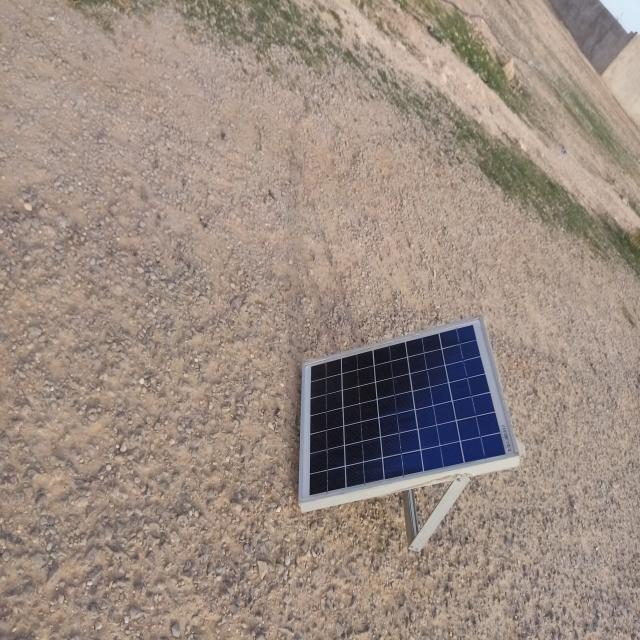no faulty: (300, 320, 515, 505)
